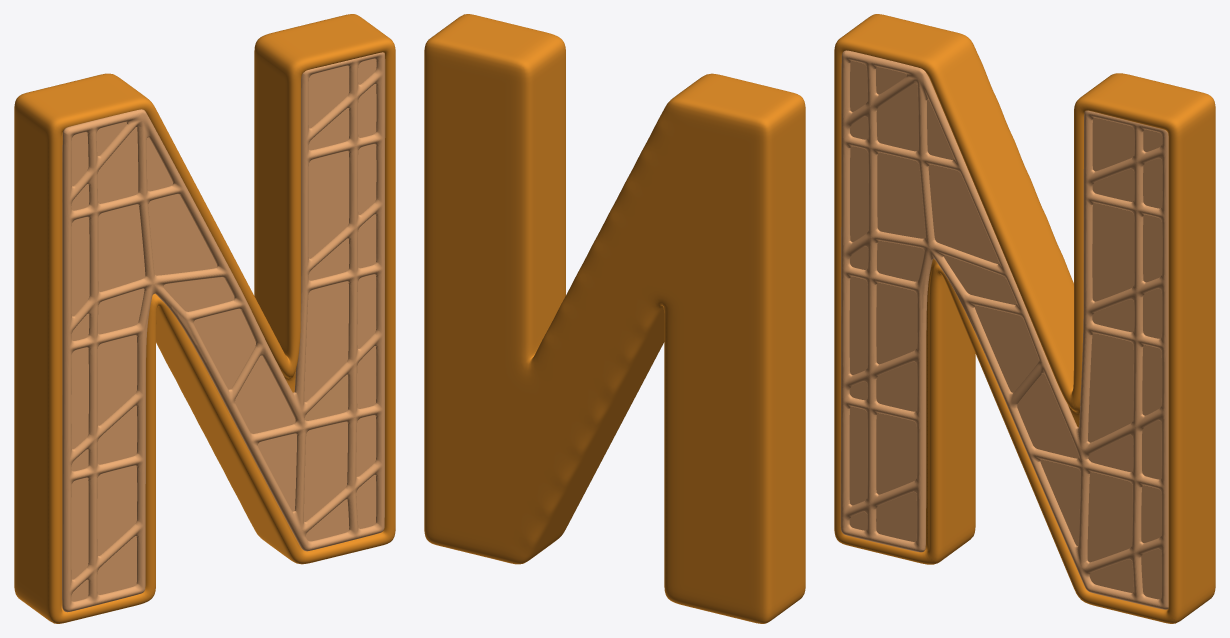
3 views of the same model, side by side, from view 1: azimuth 30°, elevation 25°; view 2: azimuth 150°, elevation 25°; view 3: azimuth 330°, elevation 25° (orthographic).
Visible parts, largest first — view 1: Text.027, Plane.026, Plane.025; view 2: Text.027; view 3: Text.027, Plane.026, Plane.025.
Boxes of the visible parts, x1,y1,x2,y2 form: Text.027: (14, 14, 395, 623); Plane.026: (71, 58, 376, 601); Plane.025: (62, 52, 385, 612); Text.027: (424, 14, 805, 623); Text.027: (834, 14, 1215, 623); Plane.026: (849, 61, 1162, 599); Plane.025: (840, 50, 1168, 609).
Size of the model in its own units: 2.2 by 3.07 by 0.4805.
